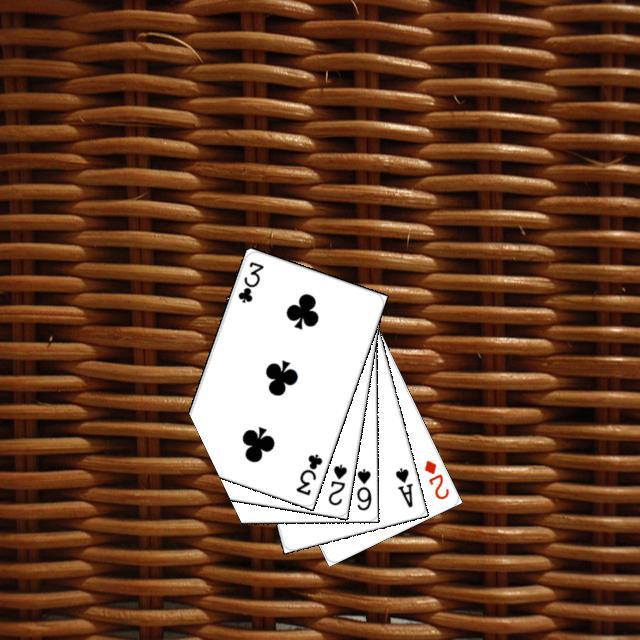2d: (419, 455, 451, 501)
2s: (323, 459, 349, 507)
3c: (291, 449, 324, 497), (233, 256, 265, 305)
6s: (352, 464, 373, 512)
As: (390, 463, 415, 509)
